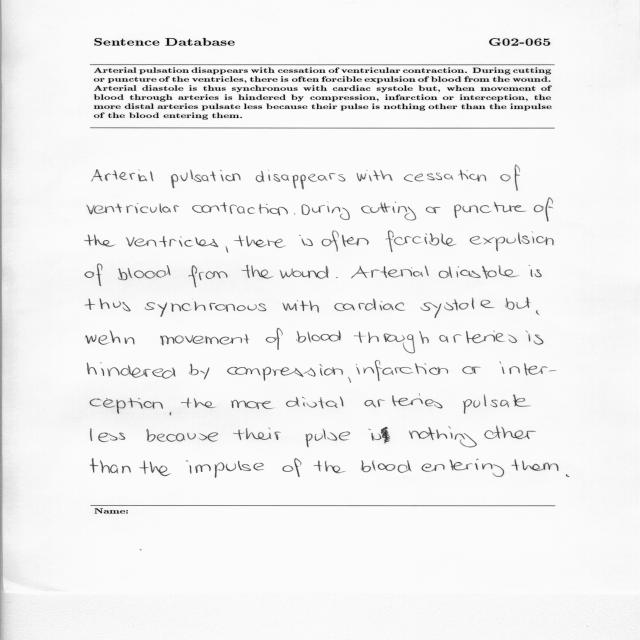word: (227, 364, 343, 381), (145, 301, 266, 317), (356, 360, 448, 381), (256, 170, 346, 189), (470, 232, 554, 252), (354, 331, 429, 353), (87, 362, 176, 379), (385, 231, 457, 252), (422, 459, 505, 477), (421, 298, 495, 318), (409, 426, 477, 447), (186, 460, 264, 478), (463, 394, 530, 414), (171, 170, 241, 189), (192, 203, 288, 216), (364, 394, 443, 409), (454, 202, 527, 218), (90, 398, 163, 414), (439, 265, 519, 279), (361, 202, 416, 221), (351, 266, 429, 279), (439, 331, 517, 344), (87, 203, 179, 214), (126, 236, 218, 247), (322, 231, 369, 252), (404, 170, 486, 182), (160, 334, 249, 345), (147, 429, 219, 442), (302, 202, 350, 220), (189, 266, 228, 288), (500, 361, 557, 376), (334, 299, 405, 311), (306, 429, 350, 448), (118, 265, 171, 280), (92, 169, 153, 182), (286, 396, 344, 409), (85, 330, 135, 345), (234, 235, 286, 248), (484, 426, 536, 439), (361, 460, 412, 473), (280, 266, 329, 279), (85, 298, 130, 312), (90, 459, 131, 474), (296, 330, 341, 343), (233, 428, 281, 440), (511, 459, 559, 471), (501, 165, 521, 191), (282, 300, 319, 313), (139, 461, 171, 476), (534, 198, 553, 222), (91, 429, 126, 442), (241, 265, 274, 278), (357, 170, 393, 181), (85, 234, 115, 247), (231, 400, 274, 409), (314, 461, 346, 473), (85, 264, 102, 286), (266, 328, 283, 350), (283, 458, 302, 477), (368, 427, 390, 443), (181, 398, 216, 408), (505, 297, 530, 310), (189, 364, 210, 379), (526, 330, 544, 345), (529, 265, 542, 277), (299, 235, 313, 246), (462, 366, 481, 374), (426, 207, 440, 214), (226, 246, 229, 253), (536, 310, 540, 315), (348, 377, 351, 383), (566, 474, 569, 477), (170, 412, 172, 416), (294, 213, 295, 215), (336, 277, 338, 278)
